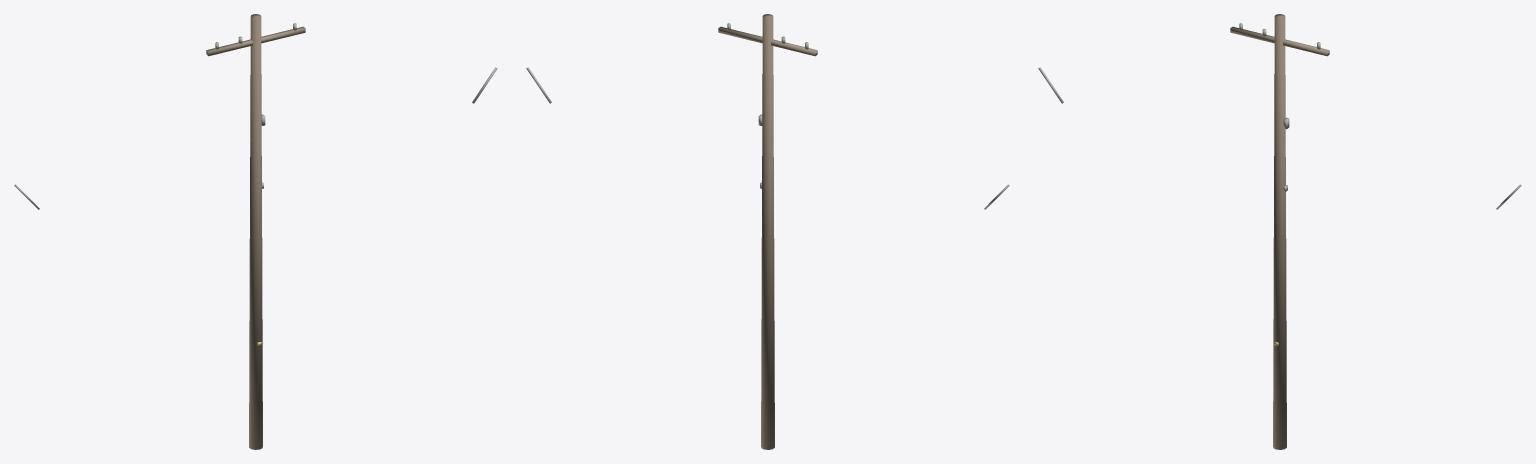
Rendered from util_pole.glb.
3 views of the same model, side by side, from view 1: azimuth 30°, elevation 25°; view 2: azimuth 150°, elevation 25°; view 3: azimuth 330°, elevation 25° (orthographic).
Parts seen in each view (by area): view 1: util_pole; view 2: util_pole; view 3: util_pole.
Part boxes in pixels (x1=…): util_pole: x1=14, y1=14, x2=497, y2=449; util_pole: x1=526, y1=14, x2=1009, y2=449; util_pole: x1=1038, y1=14, x2=1521, y2=449.
Size of the model in its own units: 12.43 by 10.6 by 0.321.
